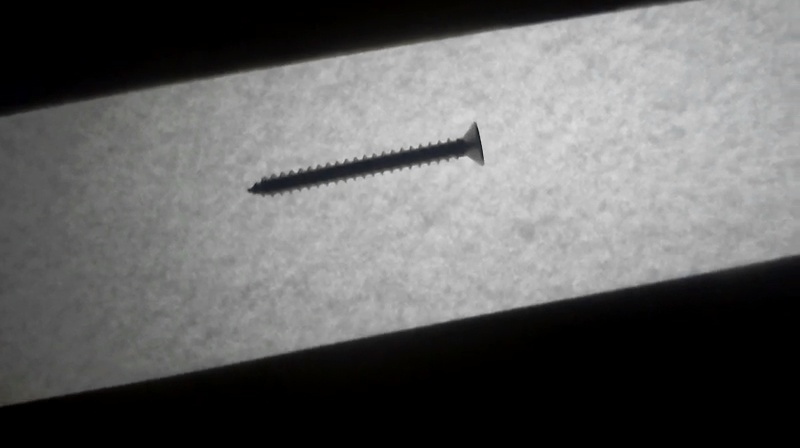S002: (243, 120, 487, 199)
